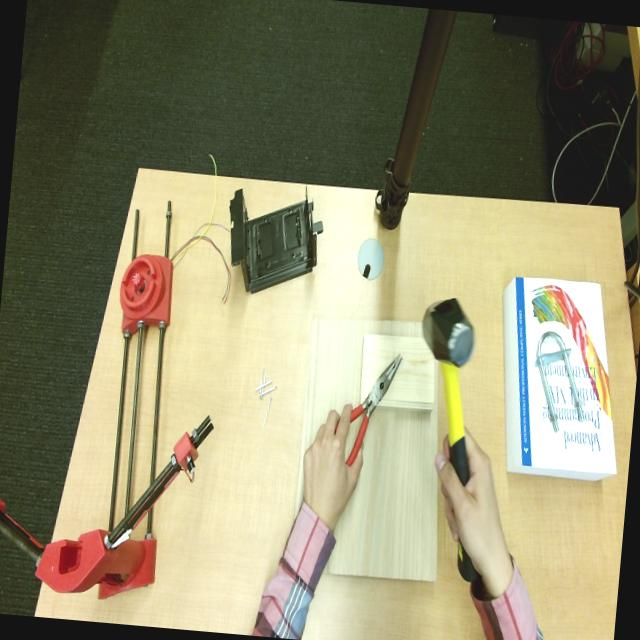hammer: (422, 298, 474, 484)
pliers: (345, 355, 400, 465)
